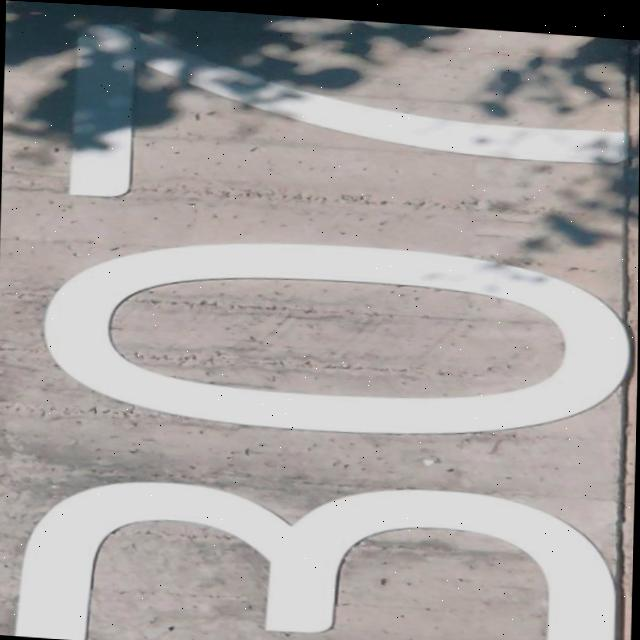character: (33, 219, 636, 454), (60, 14, 640, 236), (2, 451, 629, 640)
